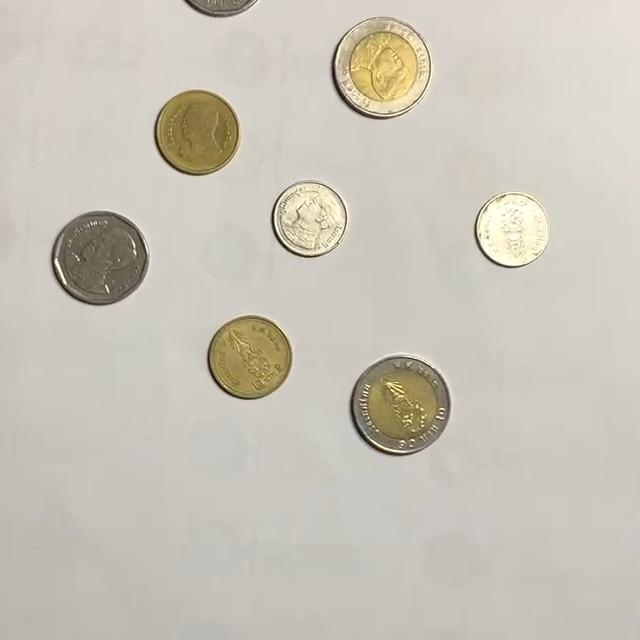1-baht: (474, 190, 553, 268), (272, 180, 350, 257)
10-baht: (333, 16, 433, 117), (351, 355, 453, 454)
2-baht: (154, 89, 241, 176), (208, 315, 294, 399)
5-baht: (52, 210, 152, 306)
